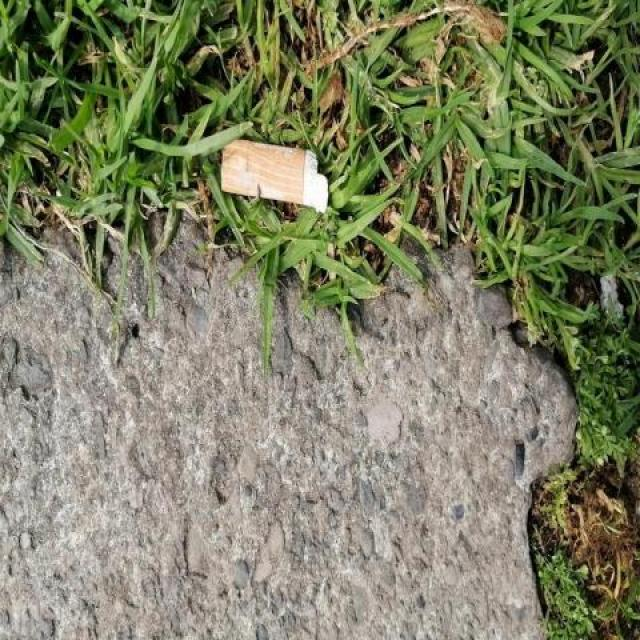non-organic waste: (215, 136, 329, 216)
